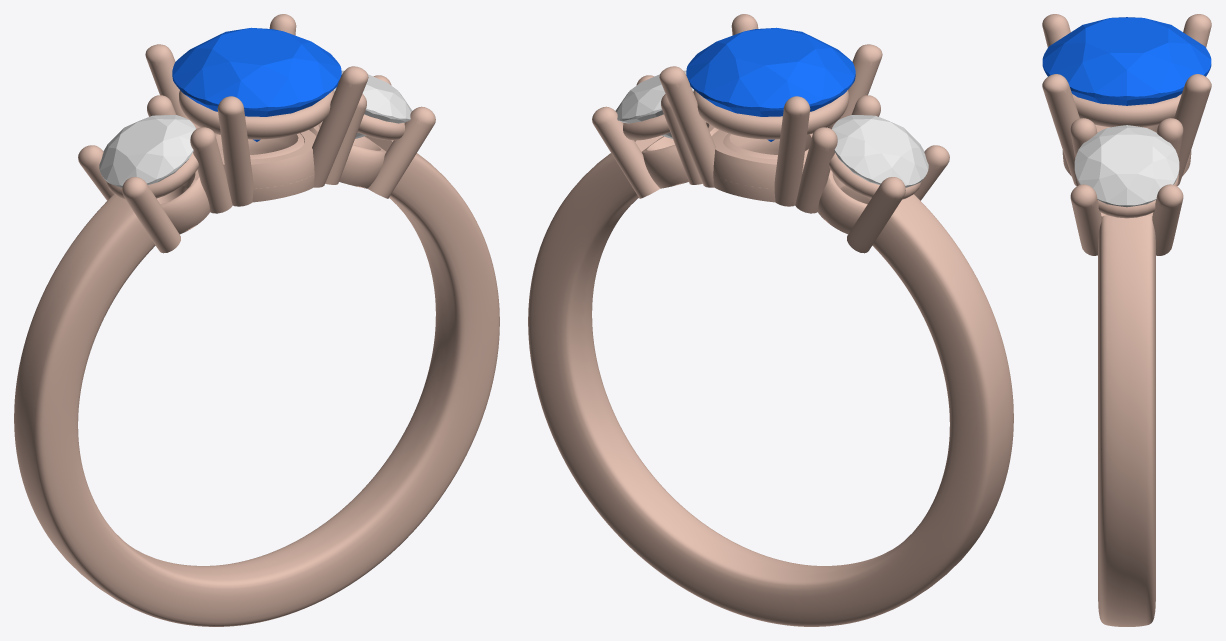
Rendered from bluesapphire-round-rosegold-4prong-straightband-2stone.glb.
3 renders of one model, left to right at view 1: azimuth 30°, elevation 25°; view 2: azimuth 150°, elevation 25°; view 3: azimuth 270°, elevation 25°, orthographic.
Parts seen in each view (by area): view 1: metal, stone, side.001, side; view 2: metal, stone, side.001, side; view 3: metal, stone, side.
Boxes of the visible parts, x1,y1,x2,y2 form: metal: [14, 14, 499, 626]; stone: [172, 27, 341, 141]; side.001: [99, 115, 195, 187]; side: [334, 70, 412, 138]; metal: [528, 14, 1013, 626]; stone: [686, 27, 855, 141]; side.001: [832, 115, 928, 187]; side: [615, 70, 693, 138]; metal: [1042, 14, 1211, 626]; stone: [1042, 17, 1211, 105]; side: [1074, 125, 1179, 207].
Size of the model in its own units: 20.51 by 23.81 by 6.45.
